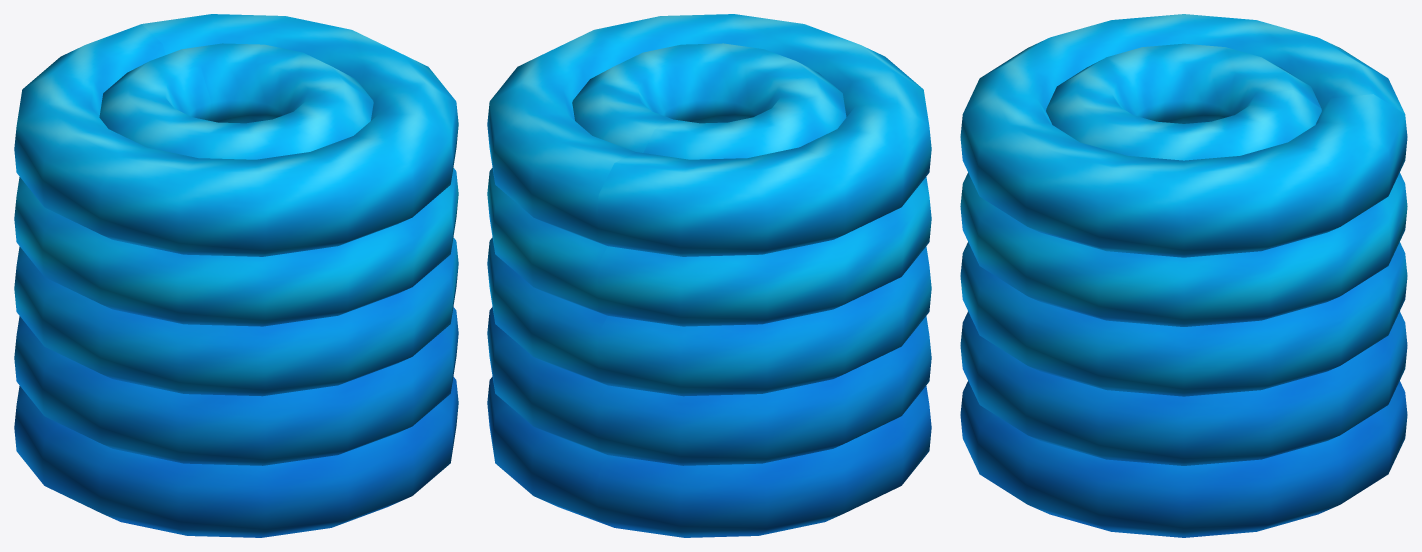
File: rollfix 1.fbx
3 views of the same model, side by side, from view 1: azimuth 30°, elevation 25°; view 2: azimuth 150°, elevation 25°; view 3: azimuth 270°, elevation 25° (orthographic).
Parts seen in each view (by area): view 1: rollfix; view 2: rollfix; view 3: rollfix.
Part boxes in pixels (left/top/right/bottom): rollfix: left=14, top=14, right=458, bottom=537; rollfix: left=487, top=14, right=931, bottom=537; rollfix: left=960, top=14, right=1407, bottom=537.
Bounding box in the file's own units: 24.94 × 22.65 × 24.94.
